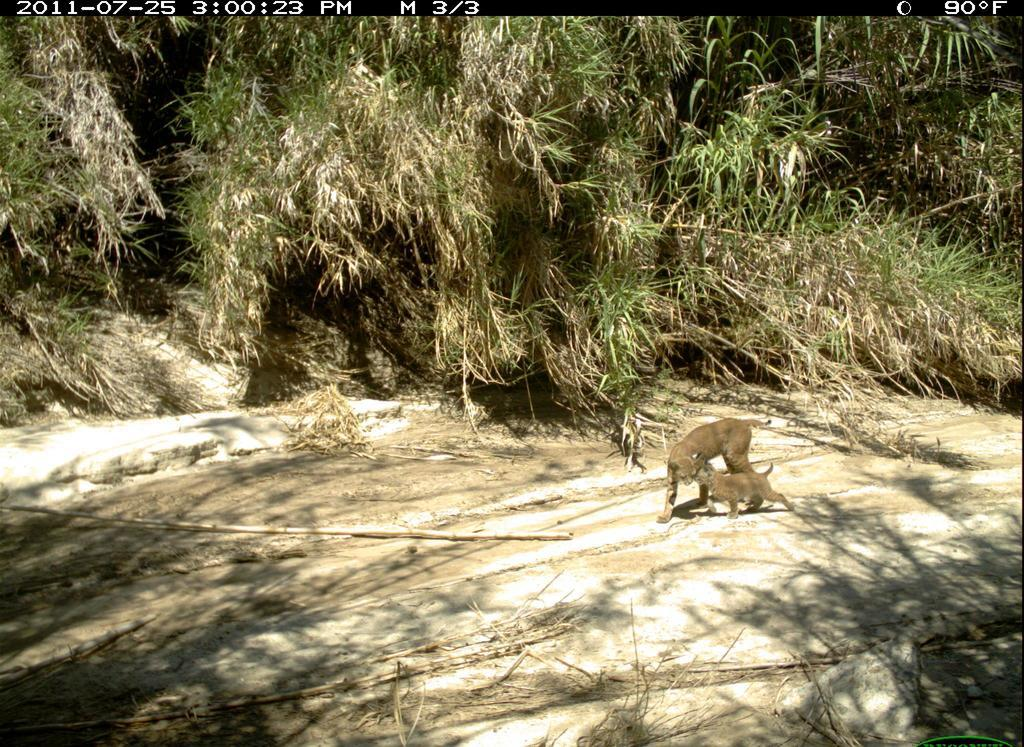bobcat: (652, 410, 774, 530), (687, 459, 807, 521)
